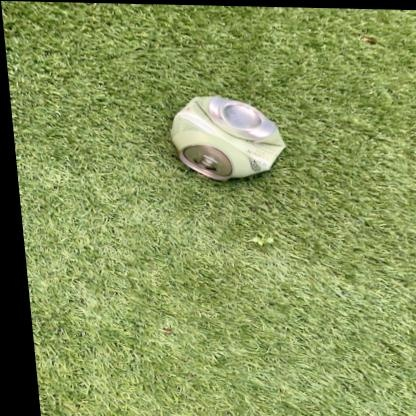trash: (171, 96, 284, 179)
